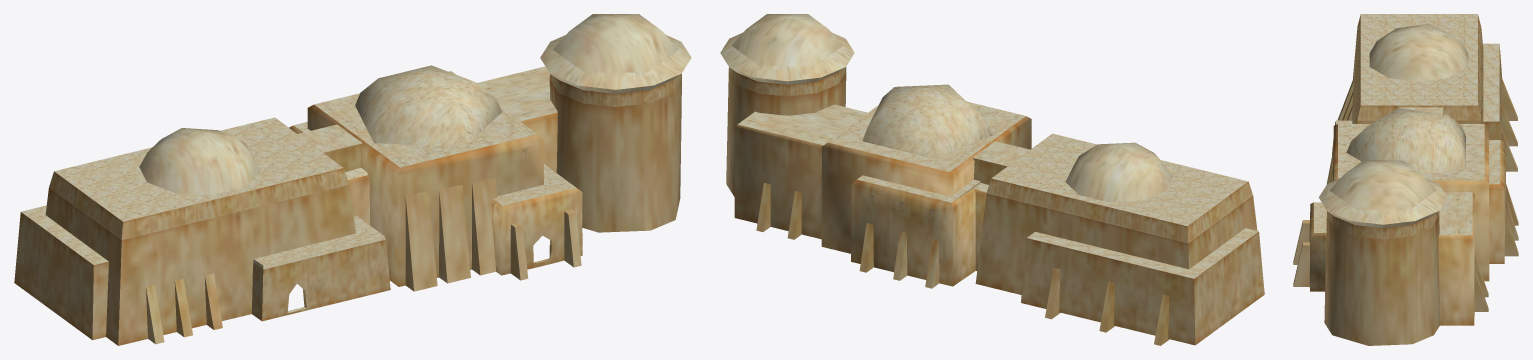
The model's file is thm_tato_block_bldg_64x32_s01_r0_exterior_mesh_l2.fbx.
3 views of the same model, side by side, from view 1: azimuth 30°, elevation 25°; view 2: azimuth 150°, elevation 25°; view 3: azimuth 270°, elevation 25° (orthographic). The views are drawn at different scales.
Parts seen in each view (by area): view 1: mesh_node; view 2: mesh_node; view 3: mesh_node.
Boxes of the visible parts, x1,y1,x2,y2 form: mesh_node: (14, 14, 691, 345); mesh_node: (720, 14, 1264, 345); mesh_node: (1293, 14, 1518, 345).
Size of the model in its own units: 67.95 by 20.62 by 26.2.
1 material, 1 textured.
